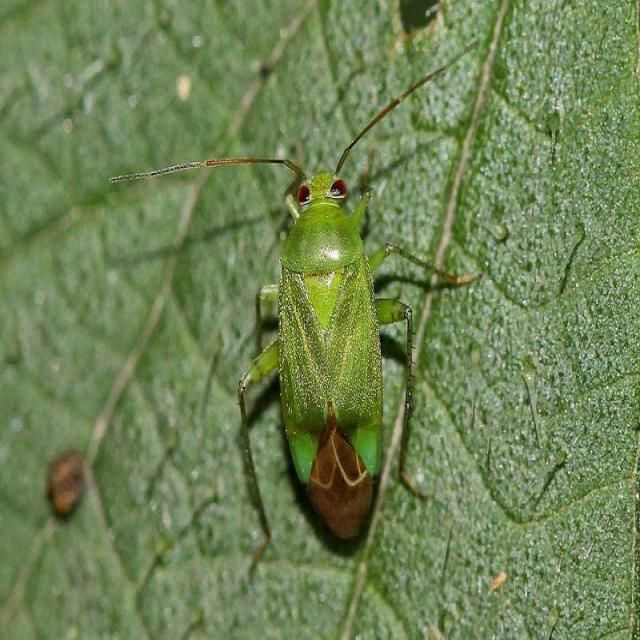Miridae-Adult-: (85, 48, 494, 568)
